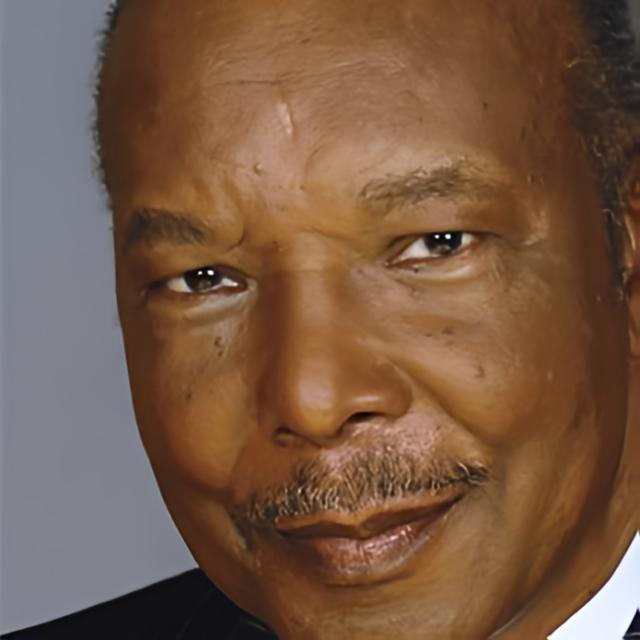content: (93, 0, 626, 640)
